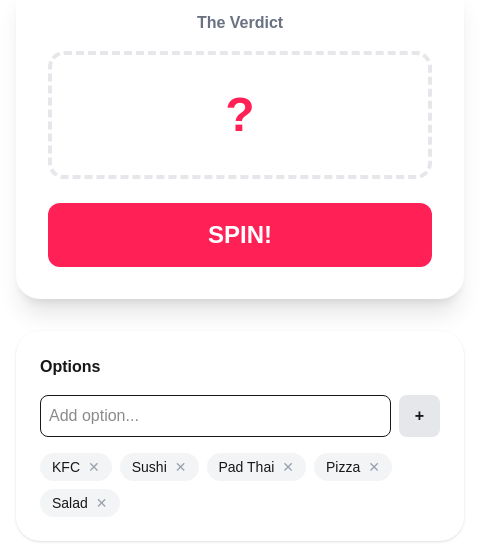
Test case: Decision Wheel Micro-App › Spinner Component › should allow adding a new option via form input
Type "Steak" into the field with placeholder "Add option...".
click(215, 416); type("Steak")  # box x1=40 y1=395 x2=391 y2=437
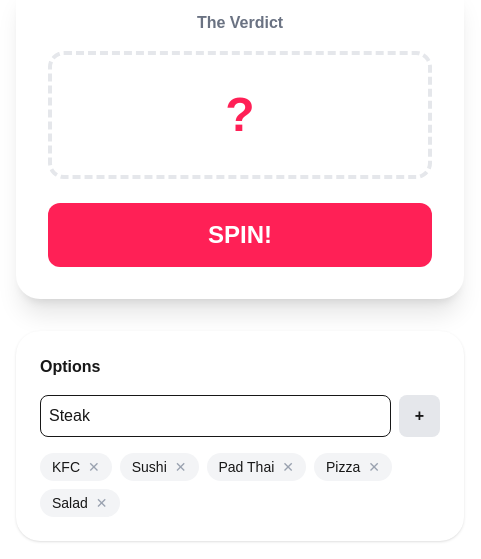
Click the button "+".
click(419, 416)  # box x1=399 y1=395 x2=440 y2=437
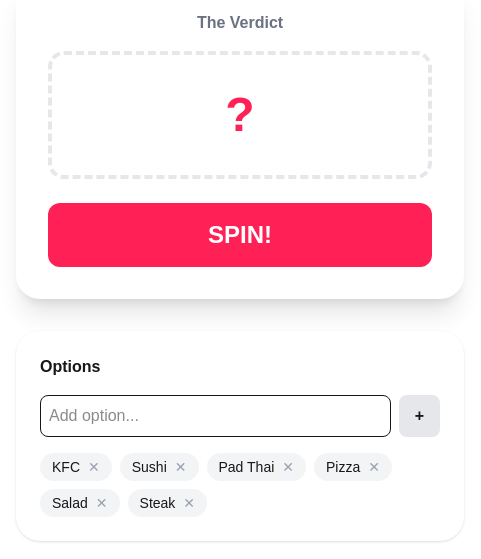
Expected: the text "Steak" is shown, x1=140 y1=495 x2=175 y2=511
